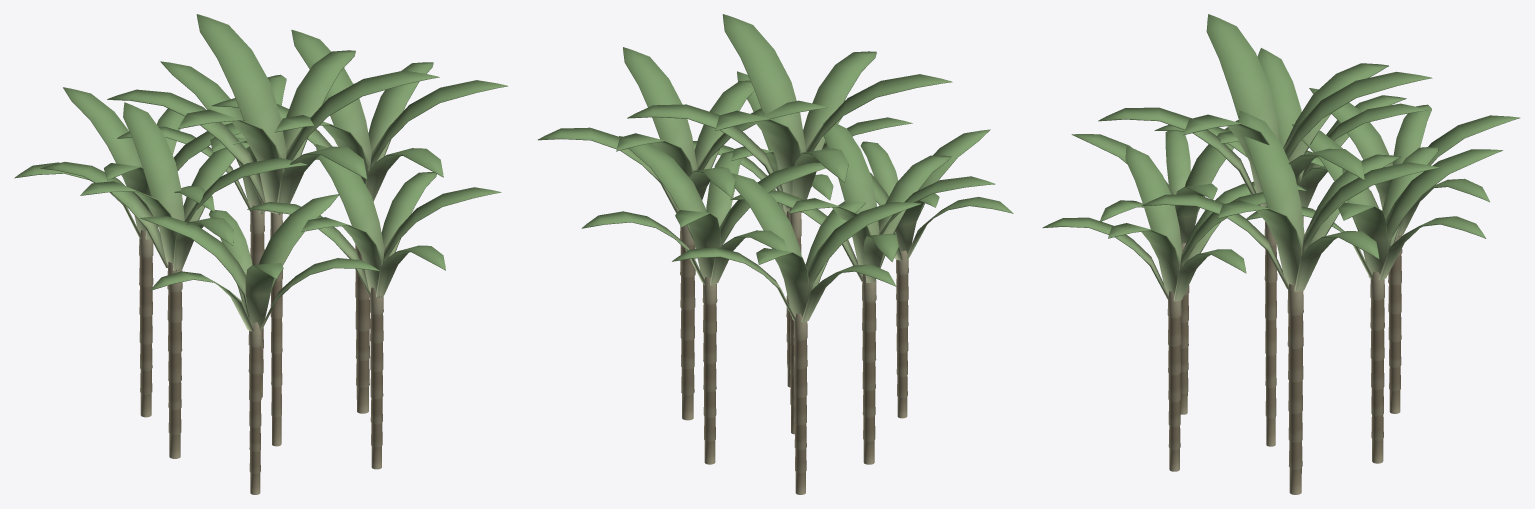
File: Sugarcane_STAGE4.fbx
The picture shows the model from 3 angles, left to right: view 1: azimuth 30°, elevation 25°; view 2: azimuth 150°, elevation 25°; view 3: azimuth 270°, elevation 25°; orthographic projection. The views are drawn at different scales.
Visible parts, largest first — view 1: Sugarcane_STAGE4; view 2: Sugarcane_STAGE4; view 3: Sugarcane_STAGE4.
Boxes of the visible parts, left/top/right/bottom form: Sugarcane_STAGE4: left=14, top=14, right=507, bottom=494; Sugarcane_STAGE4: left=538, top=14, right=1013, bottom=494; Sugarcane_STAGE4: left=1042, top=14, right=1519, bottom=494.
Size of the model in its own units: 1.67 by 1.65 by 1.41.
